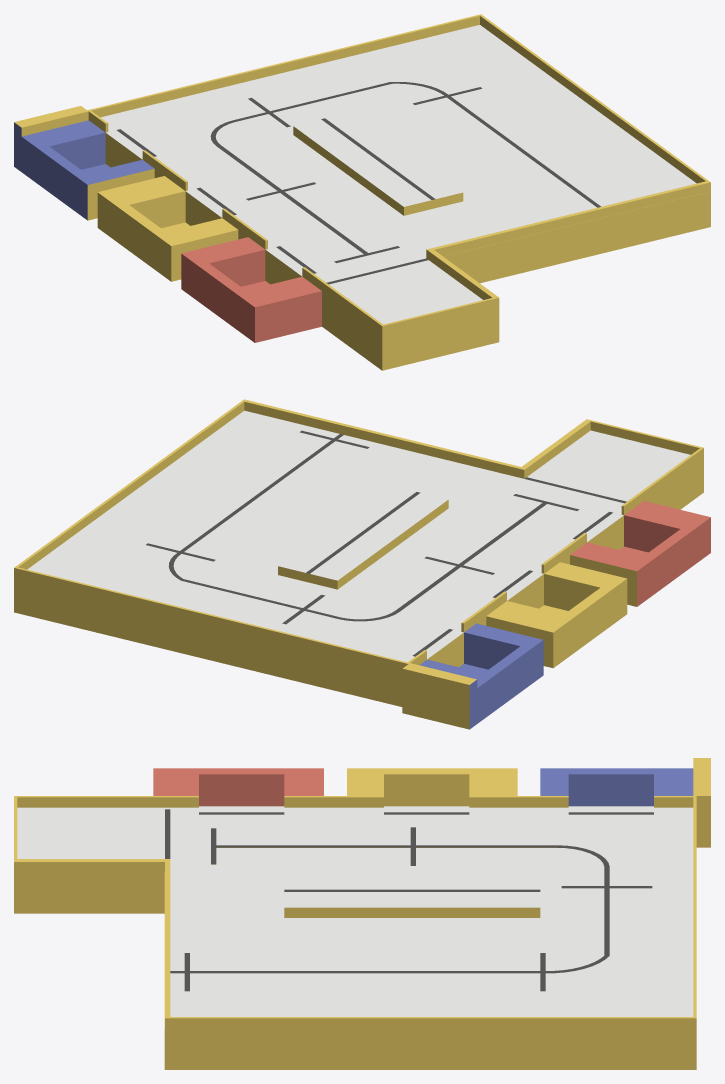
The model's file is irc_stage6.dae.
The picture shows the model from 3 angles, top to bottom: view 1: azimuth 30°, elevation 25°; view 2: azimuth 150°, elevation 25°; view 3: azimuth 270°, elevation 25°; orthographic projection. The views are drawn at different scales.
Visible parts, largest first — view 1: Body1; view 2: Body1; view 3: Body1.
Part boxes in pixels (x1,y1,x2,y2): Body1: [14, 14, 710, 370]; Body1: [14, 399, 710, 729]; Body1: [14, 758, 710, 1069].
Size of the model in its own units: 2.17 by 2.45 by 0.2001.
